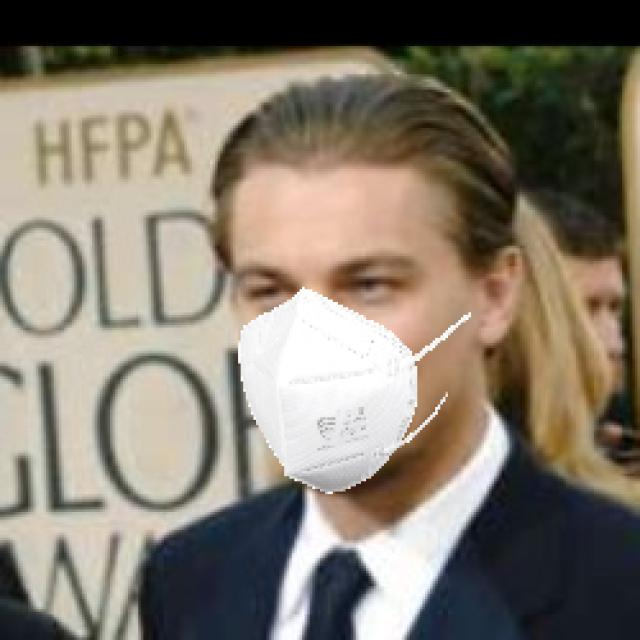mask: (226, 294, 467, 502)
